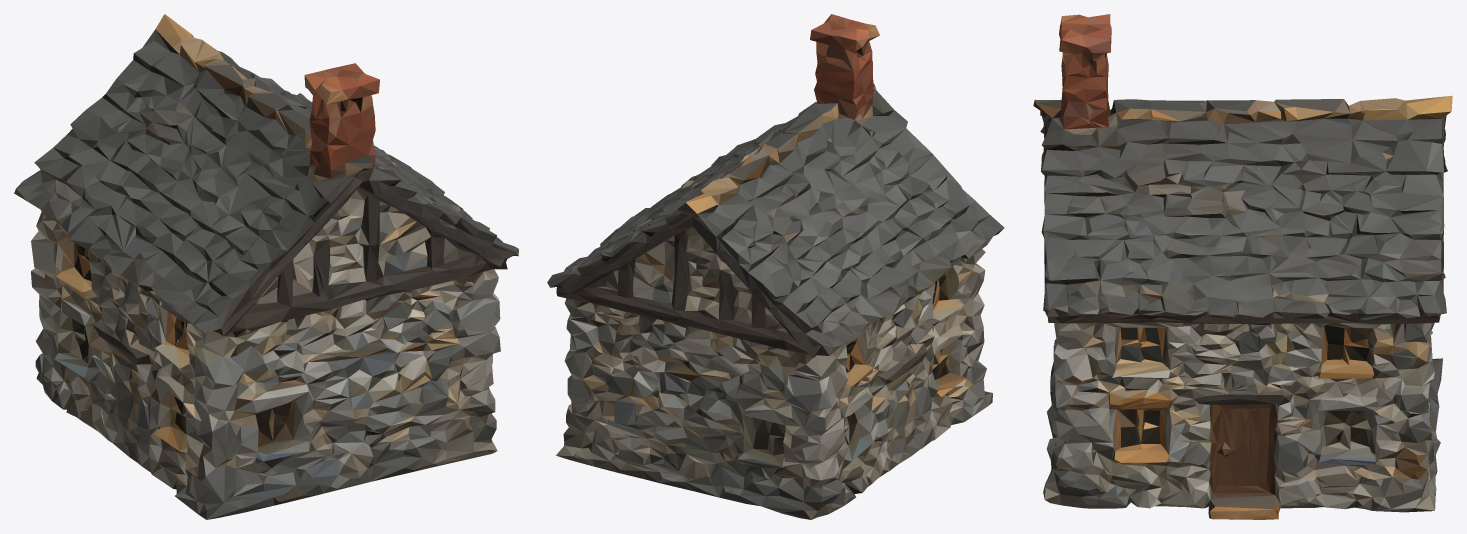
The model's file is house.glb.
3 renders of one model, left to right at view 1: azimuth 30°, elevation 25°; view 2: azimuth 150°, elevation 25°; view 3: azimuth 270°, elevation 25°, orthographic. The views are drawn at different scales.
Parts seen in each view (by area): view 1: house; view 2: house; view 3: house.
Boxes of the visible parts, x1,y1,x2,y2 form: house: [14, 14, 518, 519]; house: [547, 14, 1004, 519]; house: [1033, 14, 1452, 519].
Size of the model in its own units: 0.8504 by 0.9816 by 0.9054.
Materials: 1 (1 with a texture image).
